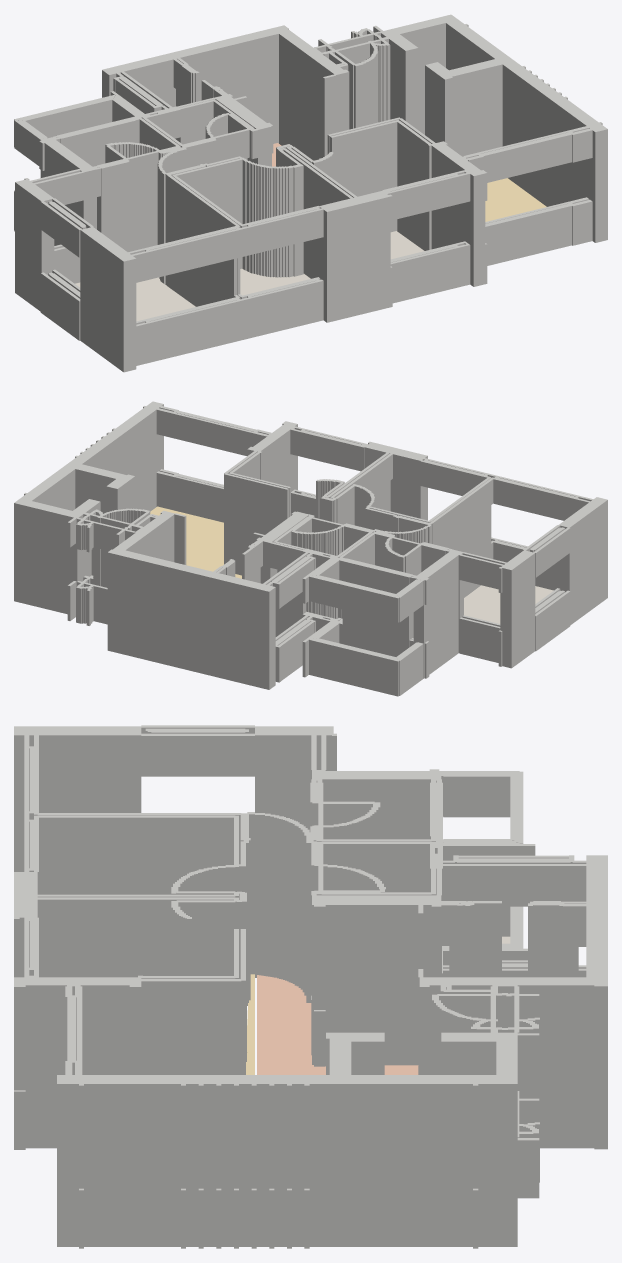
3 views of the same model, one above another, from view 1: azimuth 30°, elevation 25°; view 2: azimuth 150°, elevation 25°; view 3: azimuth 270°, elevation 25° (orthographic). The views are drawn at different scales.
Visible parts, largest first — view 1: walls, room:living:3, room:other:12, room:other:13, room:other:14; view 2: walls, room:living:3, room:other:12; view 3: walls, room:kitchen:1, room:living:3.
Part boxes in pixels (<box>): walls: <box>14,14,607,372</box>; room:living:3: <box>485,178,546,221</box>; room:other:12: <box>75,277,195,321</box>; room:other:13: <box>240,268,310,295</box>; room:other:14: <box>390,231,424,259</box>; walls: <box>14,401,607,696</box>; room:living:3: <box>150,506,241,578</box>; room:other:12: <box>464,585,553,623</box>; walls: <box>14,725,607,1248</box>; room:kitchen:1: <box>257,975,418,1074</box>; room:living:3: <box>246,974,254,1074</box>.
Size of the model in its own units: 13.27 by 2.8 by 9.25.
